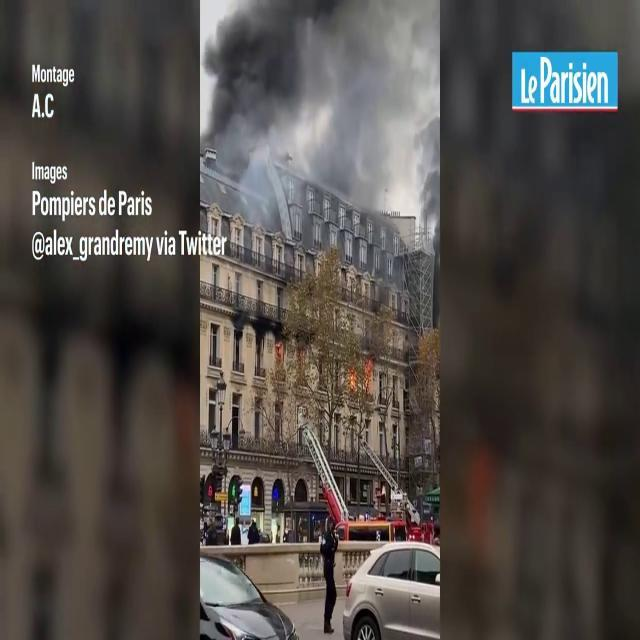Smoke: (201, 1, 417, 233)
